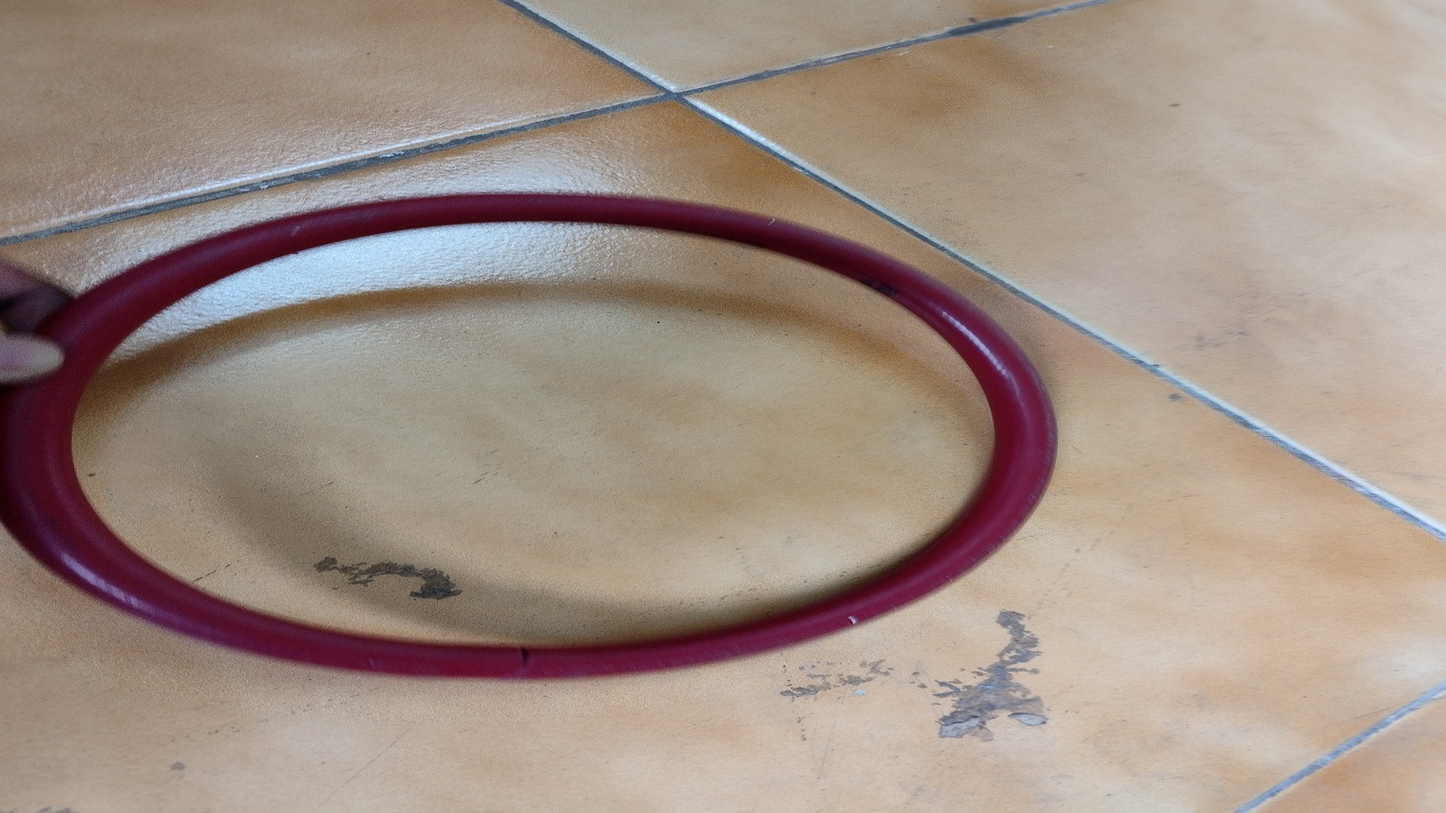Red ring: (29, 198, 1055, 679)
